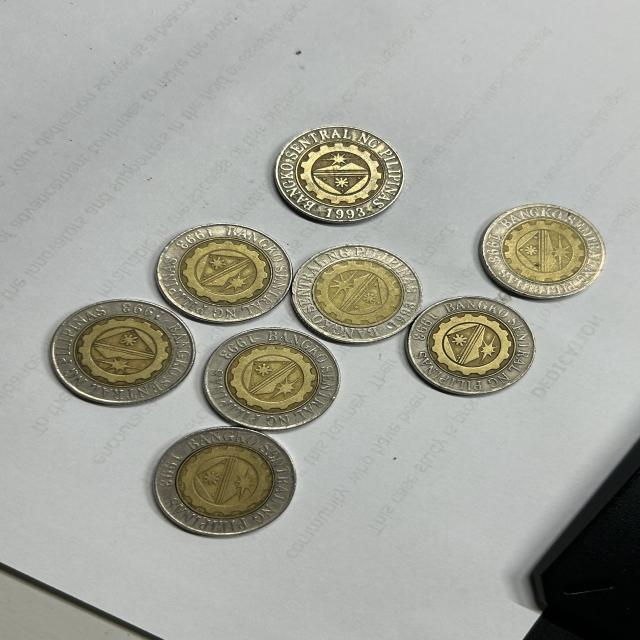10_Old_Back: (157, 426, 292, 534), (50, 300, 191, 398), (211, 328, 334, 427), (273, 129, 406, 220), (159, 224, 290, 314), (291, 250, 424, 338), (483, 206, 605, 296), (410, 300, 530, 387)
